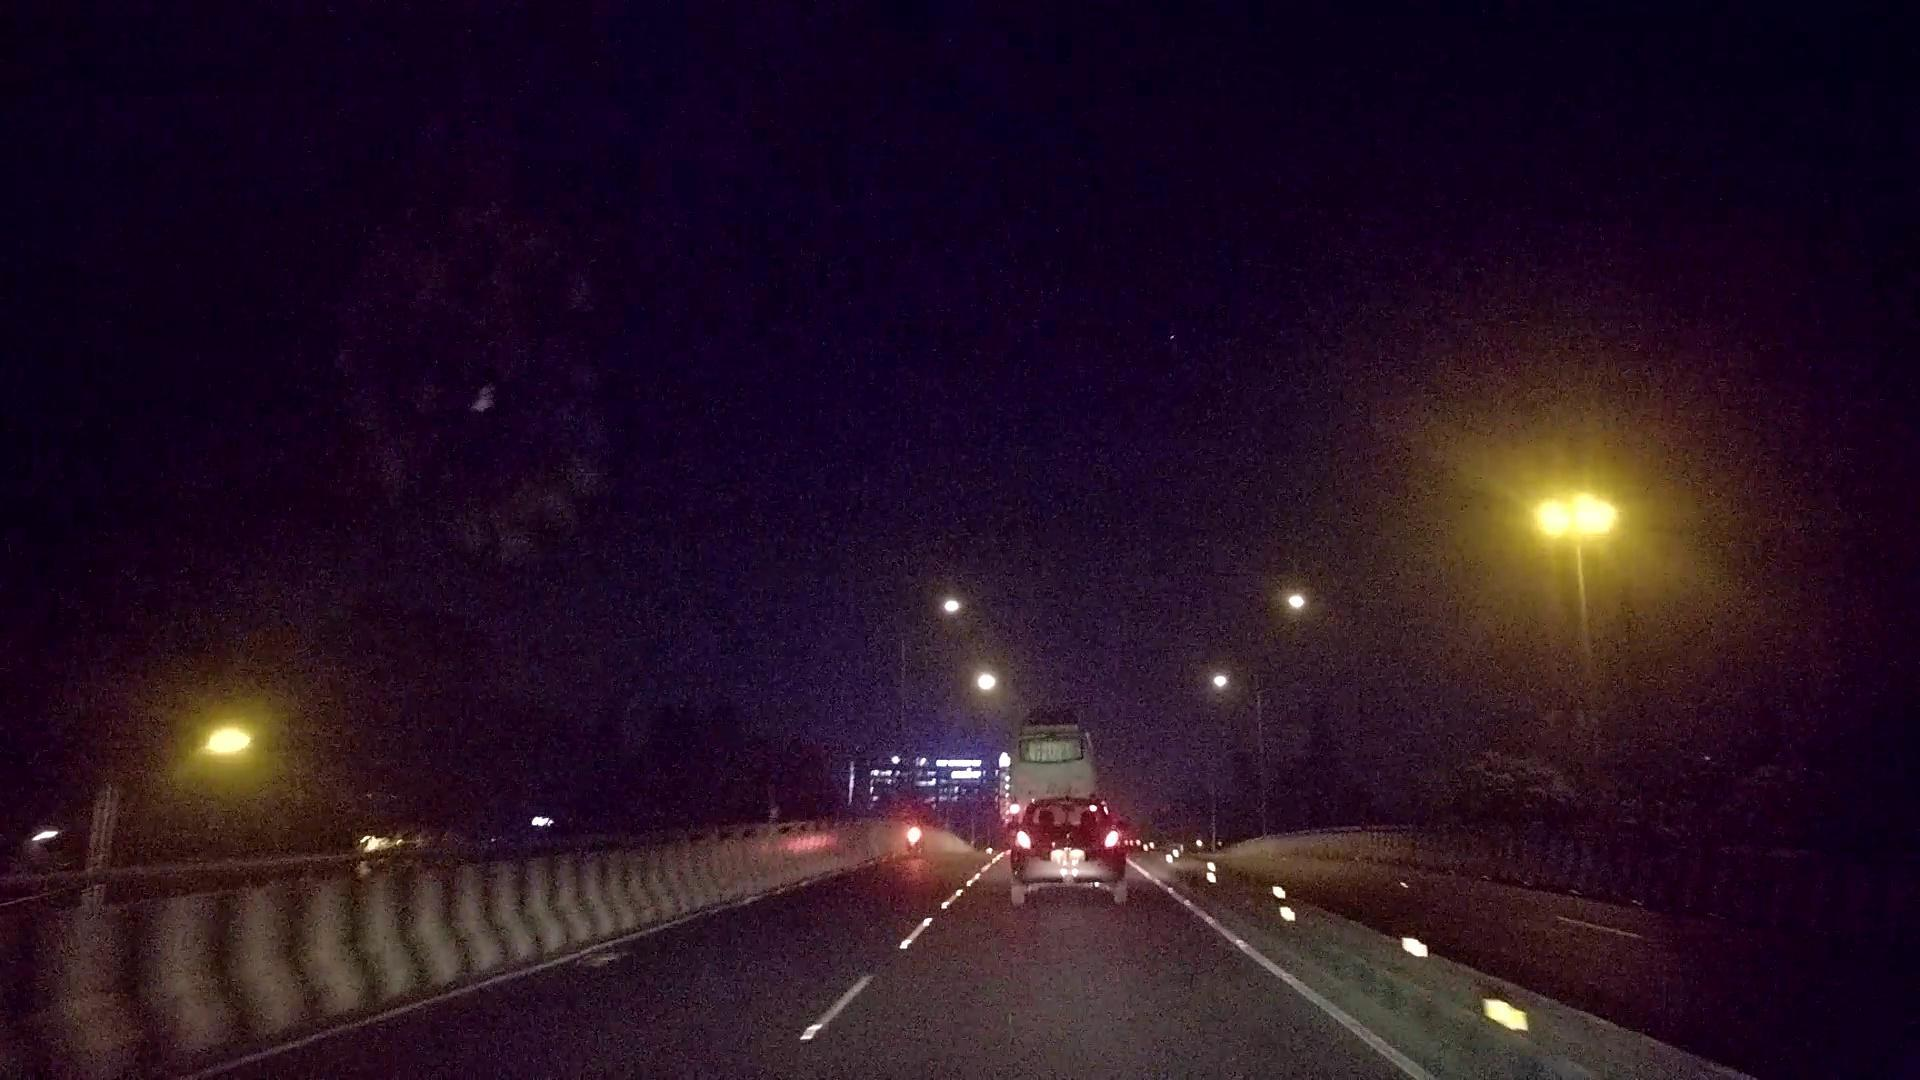on: (1480, 262, 1751, 795), (179, 582, 400, 876)
